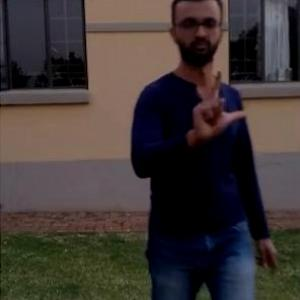land_hand: (180, 61, 251, 145)
